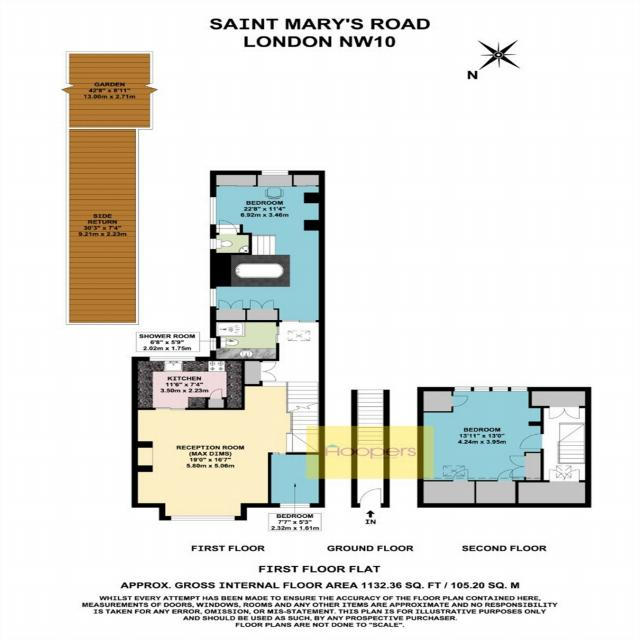DOOR: (519, 433, 544, 449)
DOUBLE DOOR: (548, 405, 580, 420)
ROOM: (209, 170, 326, 322), (416, 386, 544, 508), (131, 356, 245, 410), (267, 452, 325, 508)
SLIDING DOOR: (154, 407, 186, 411), (272, 452, 286, 455)
WINDOW: (170, 515, 236, 521), (149, 356, 196, 362), (209, 197, 217, 225), (261, 170, 289, 176), (279, 503, 310, 508), (209, 288, 217, 307), (209, 337, 217, 351), (454, 386, 472, 392), (510, 386, 528, 392), (473, 386, 490, 392), (492, 386, 509, 392), (209, 238, 217, 250)
